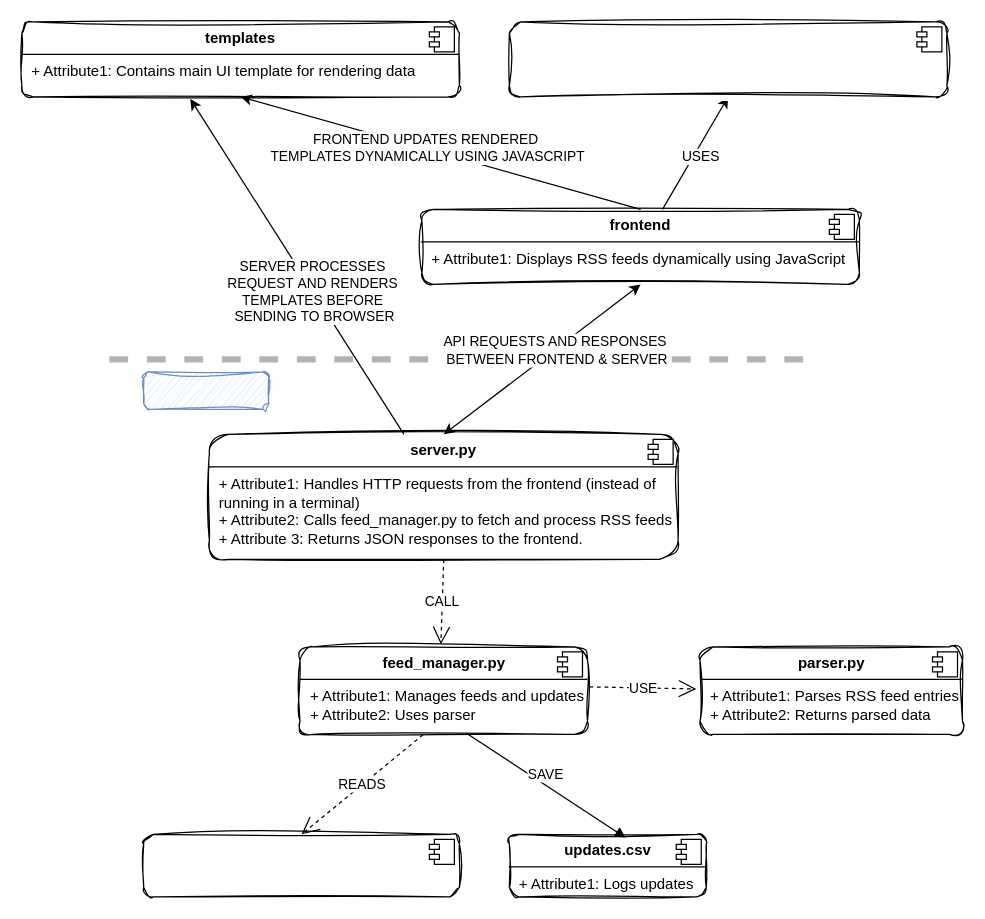
Some shapes in this 985 by 919 pixel diagram are drawn without their labels. Each missing label, with the centre of its shape:
"BACKEND" goes at pixel 205 390.
"Database Layer + Attribute1: Stores and retrieves RSS data" goes at pixel 300 865.
"static + Attribute1: Contains CSS, SCSS, JavaScript files" goes at pixel 727 59.
